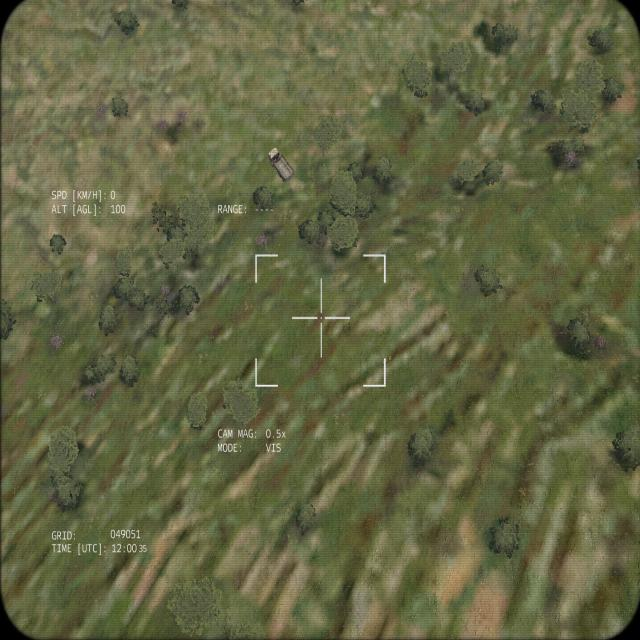truck: (268, 145, 294, 184)
